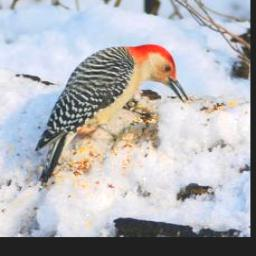Woodpecker: (31, 43, 190, 191)
